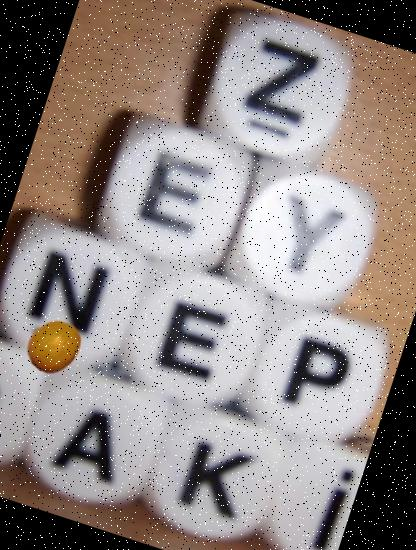Lemon: (18, 310, 90, 382)
